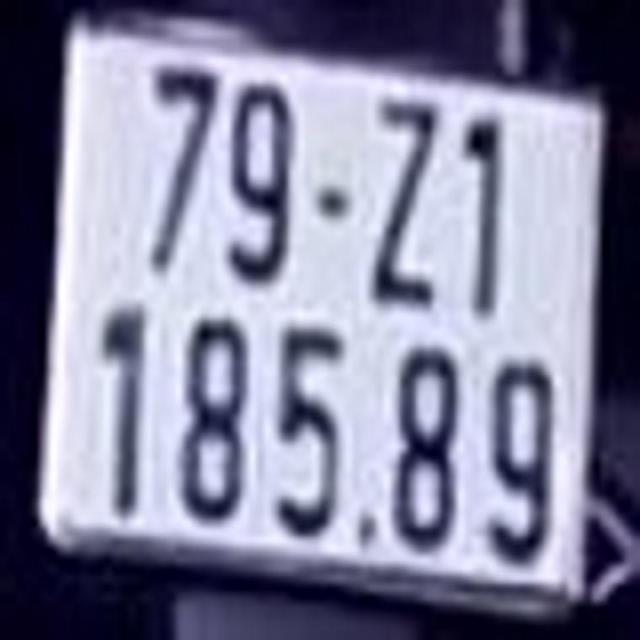1: (106, 302, 146, 518), (462, 115, 503, 319)
5: (274, 320, 344, 544)
7: (137, 74, 211, 276)
8: (389, 333, 462, 550), (183, 316, 244, 524)
9: (483, 360, 552, 558), (227, 80, 288, 287)
Z: (364, 96, 440, 299)
